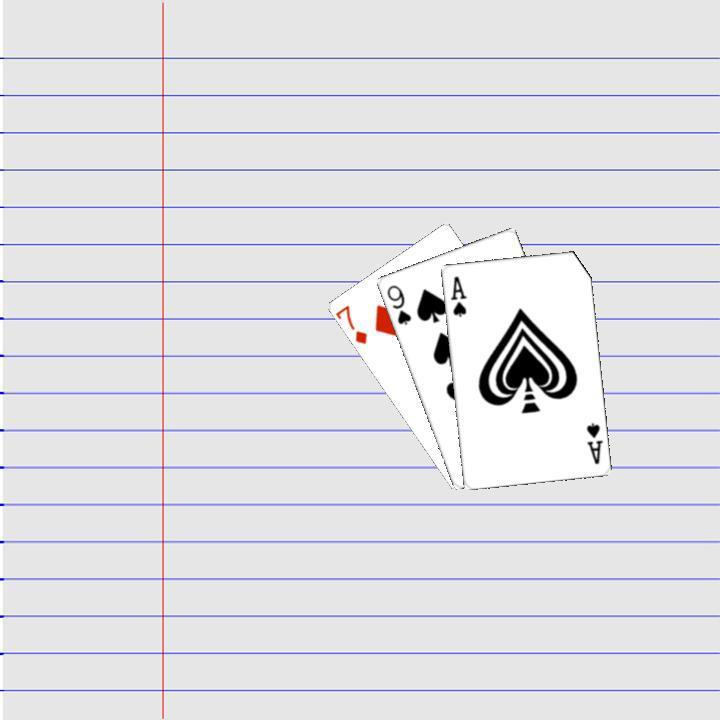7: (332, 300, 369, 346)
9: (382, 280, 413, 327)
A: (582, 418, 604, 466), (446, 271, 468, 318)
